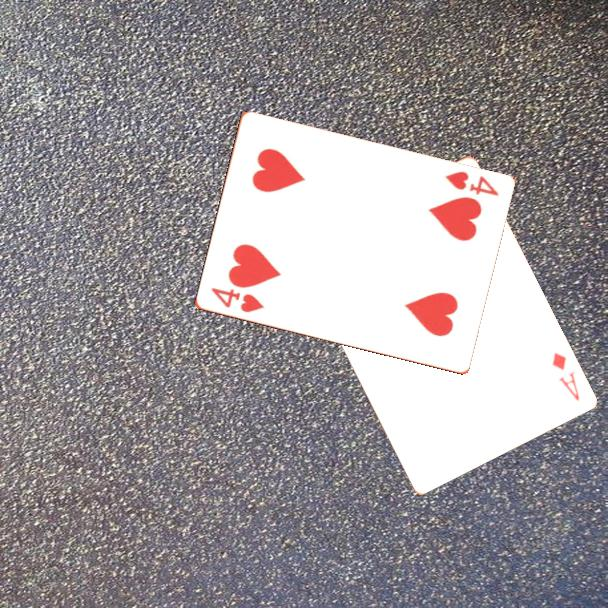d01: (548, 349, 582, 404)
h04: (207, 284, 267, 316), (440, 168, 501, 199)
